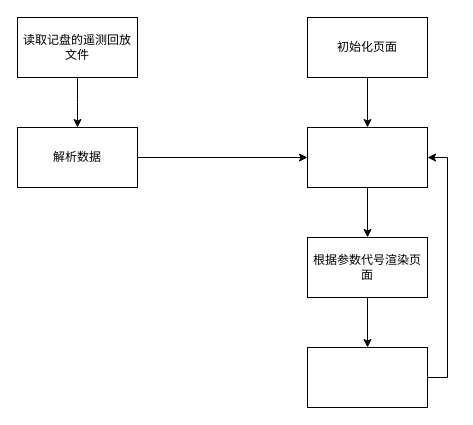
Some shapes in this 473 by 425 pixel diagram are drawn without their labels. The centre of each missing label's shape, as x and y in pixels:
"刷新页面" goes at point (367, 377).
"接受遥测结果" goes at point (367, 157).
